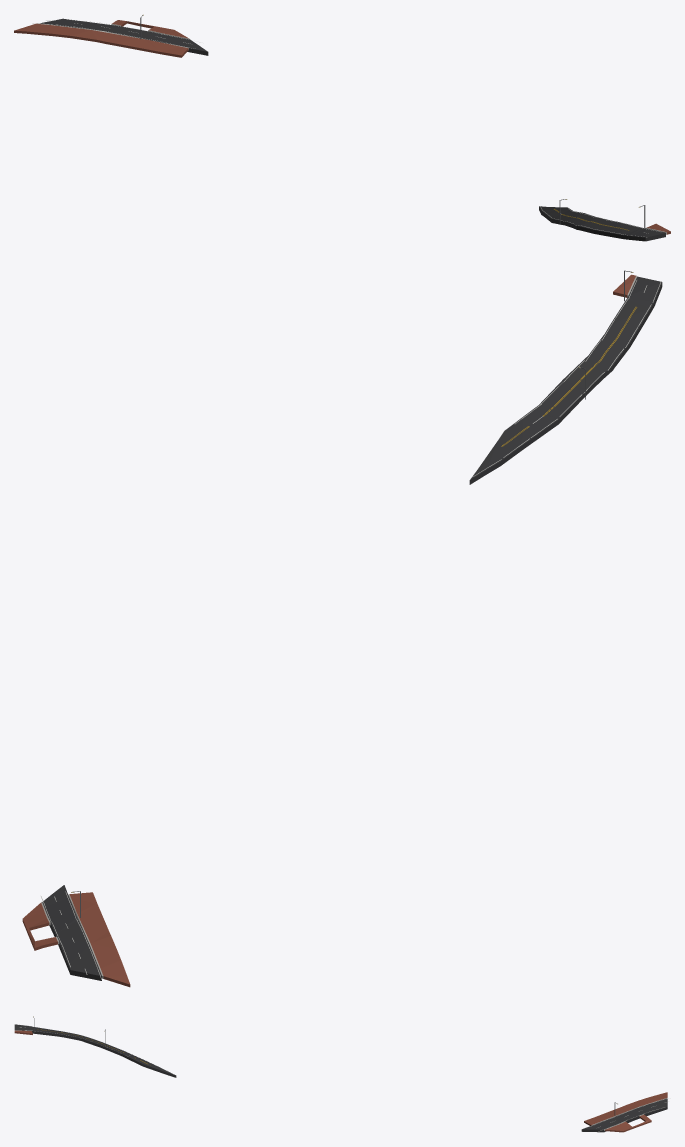
The picture shows the model from 3 angles, top to bottom: view 1: azimuth 30°, elevation 25°; view 2: azimuth 150°, elevation 25°; view 3: azimuth 270°, elevation 25°; orthographic projection. The views are drawn at different scales.
Bounding box in the file's own units: 41.5 × 54.78 × 293.
